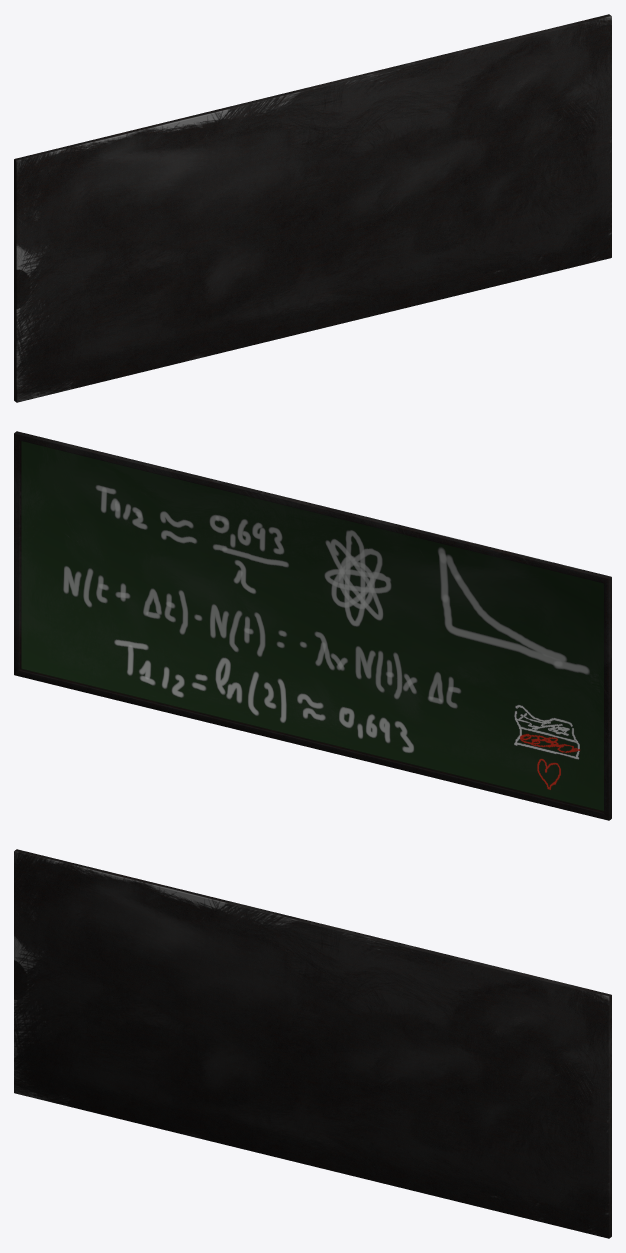
Rendered from tableau.glb.
The picture shows the model from 3 angles, top to bottom: view 1: azimuth 30°, elevation 25°; view 2: azimuth 150°, elevation 25°; view 3: azimuth 330°, elevation 25°; orthographic projection.
Parts seen in each view (by area): view 1: board_Material.005_0; view 2: board_Material.005_0; view 3: board_Material.005_0.
Part boxes in pixels (<box>): board_Material.005_0: <box>14,14,611,402</box>; board_Material.005_0: <box>14,431,611,820</box>; board_Material.005_0: <box>14,849,611,1238</box>.
Bounding box in the file's own units: 3.23 × 1.25 × 0.0322.
1 material, 1 textured.
